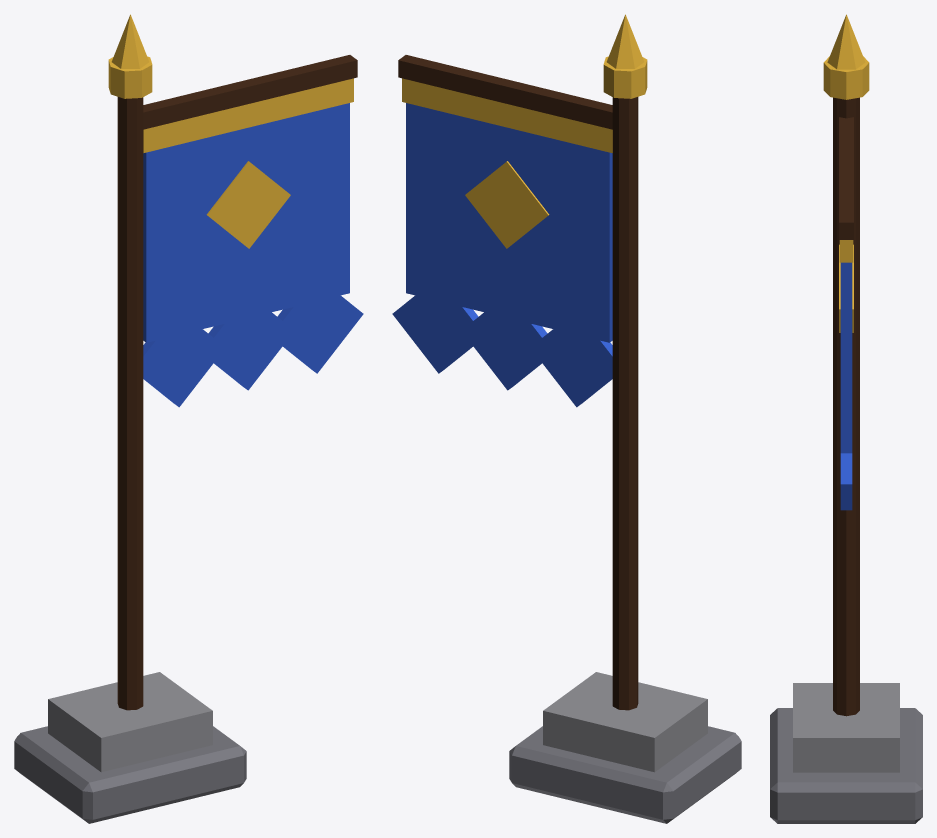
The model's file is RallyBanner.glb.
The picture shows the model from 3 angles, left to right: view 1: azimuth 30°, elevation 25°; view 2: azimuth 150°, elevation 25°; view 3: azimuth 270°, elevation 25°; orthographic projection.
Visible parts, largest first — view 1: RallyBanner; view 2: RallyBanner; view 3: RallyBanner.
Boxes of the visible parts, box(x1,y1,x2,y2) form: RallyBanner: box(14, 14, 363, 823); RallyBanner: box(392, 14, 741, 823); RallyBanner: box(770, 14, 922, 823).
Size of the model in its own units: 0.9514 by 2.23 by 0.4.
